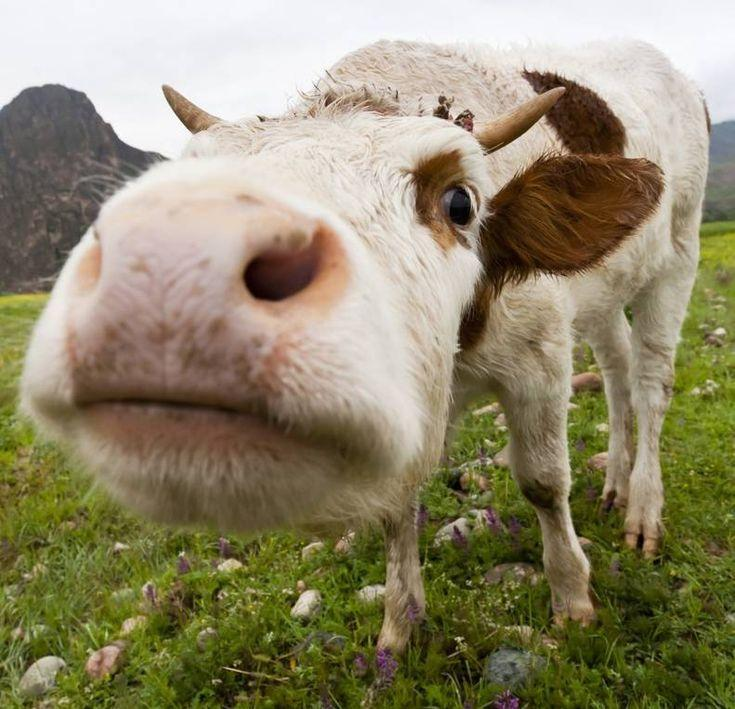cow: (48, 20, 735, 616)
